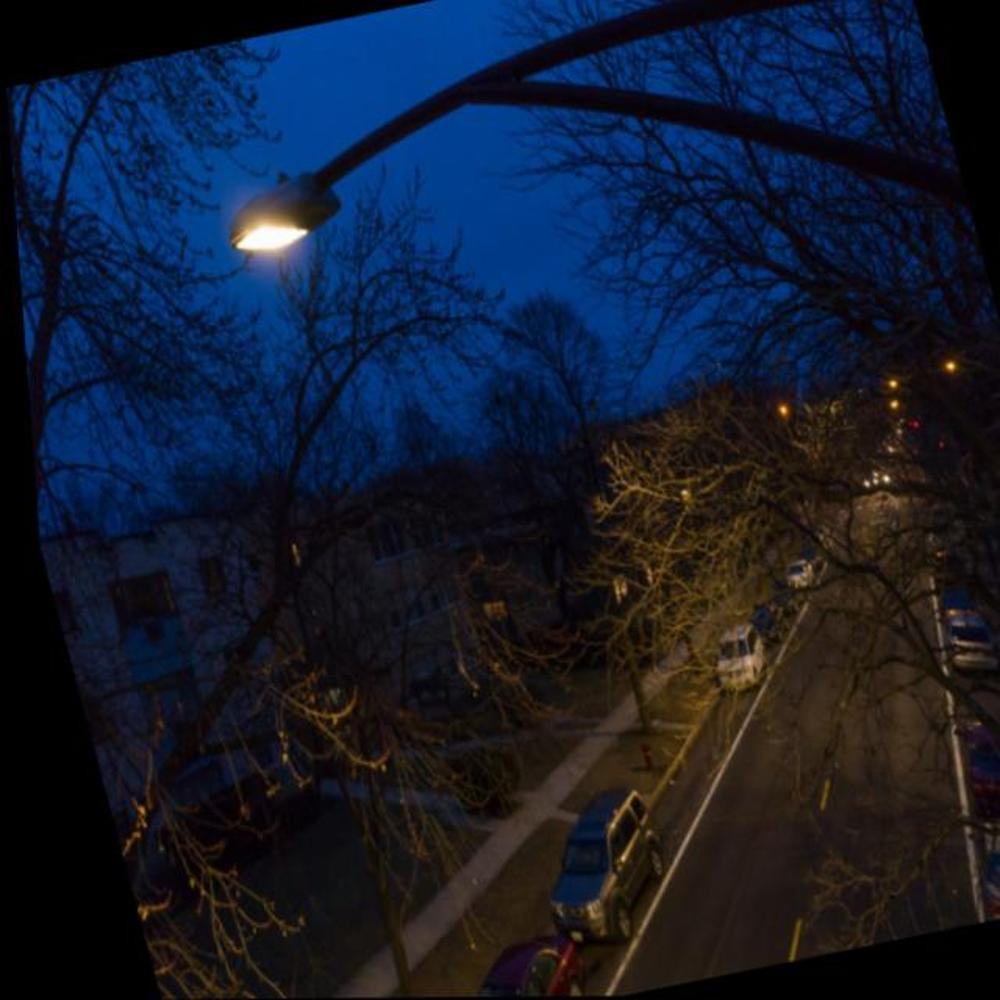shelf: (206, 146, 374, 283)
